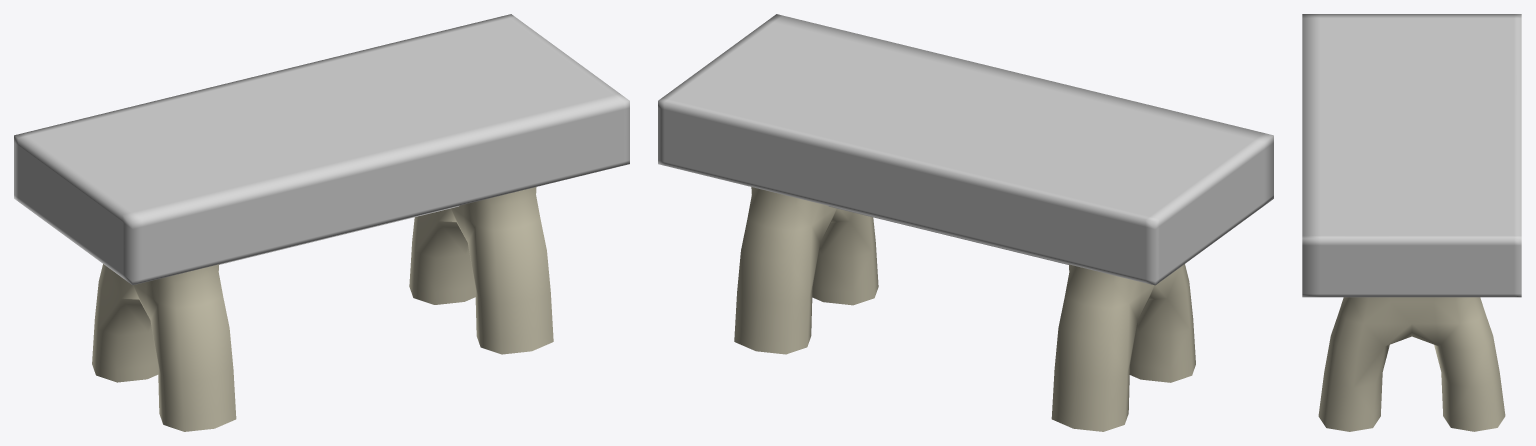
File: CraftingTable.fbx
3 views of the same model, side by side, from view 1: azimuth 30°, elevation 25°; view 2: azimuth 150°, elevation 25°; view 3: azimuth 270°, elevation 25° (orthographic). The views are drawn at different scales.
Parts seen in each view (by area): view 1: Cube; view 2: Cube; view 3: Cube.
Boxes of the visible parts, x1,y1,x2,y2 form: Cube: [14, 14, 629, 431]; Cube: [658, 14, 1273, 431]; Cube: [1302, 14, 1521, 431].
Bounding box in the file's own units: 264 × 119 × 109.
